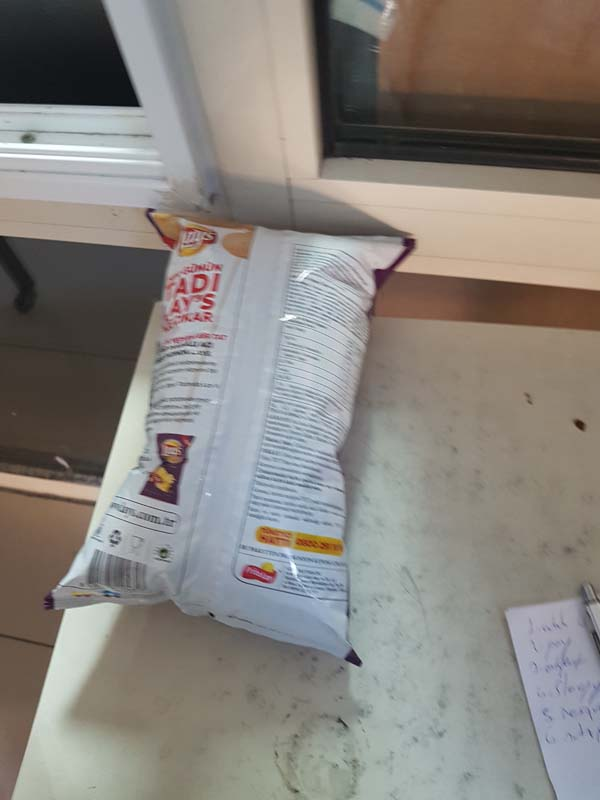layspeynirsoslu: (44, 203, 423, 675)
